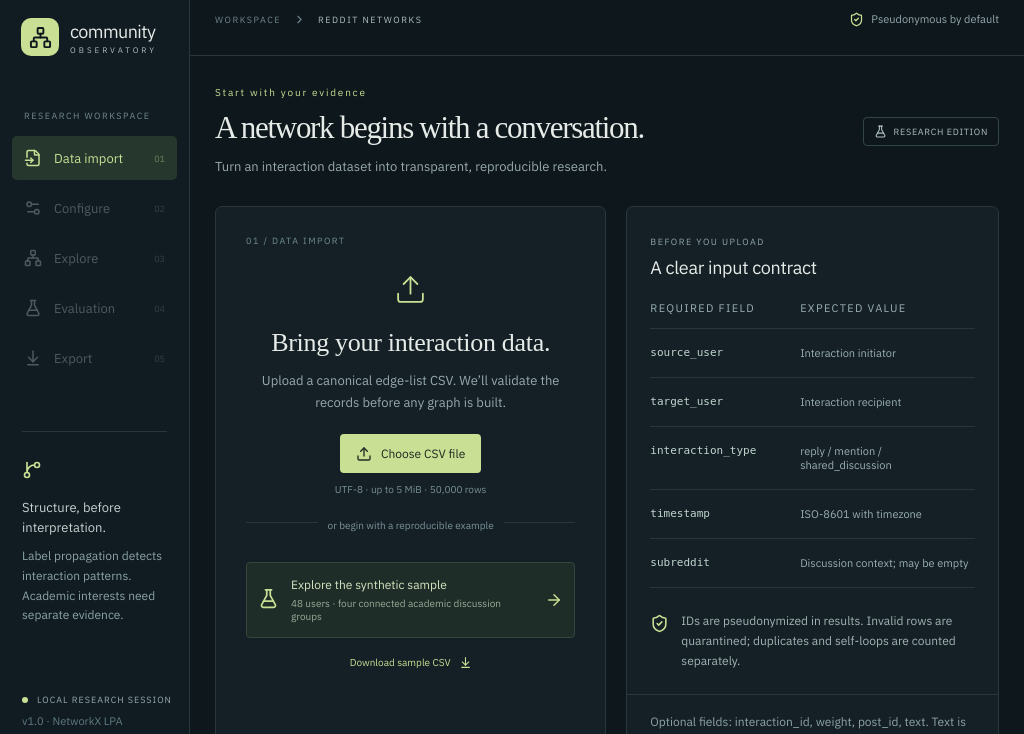
Test: research workflow › validates the sample, reports quarantine and allows configuration
The width and height of the screenshot is (1024, 734).
Click the button "Explore the synthetic sample" at (411, 600), box [246,562,575,638]
(page scrolled)
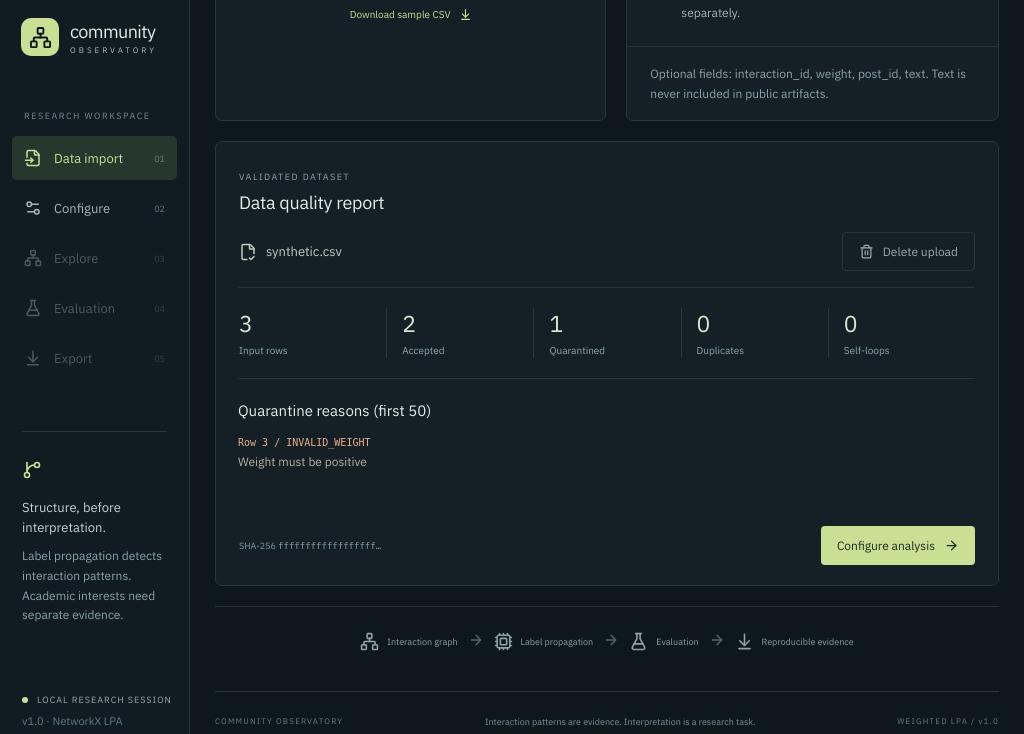
Result: the heading "Data quality report" is shown at [239,191,384,214]
Result: the text "Weight must be positive" is shown at [238,454,367,469]
Click the button "Configure analysis" at (898, 545), box [821,526,975,565]
(page scrolled)
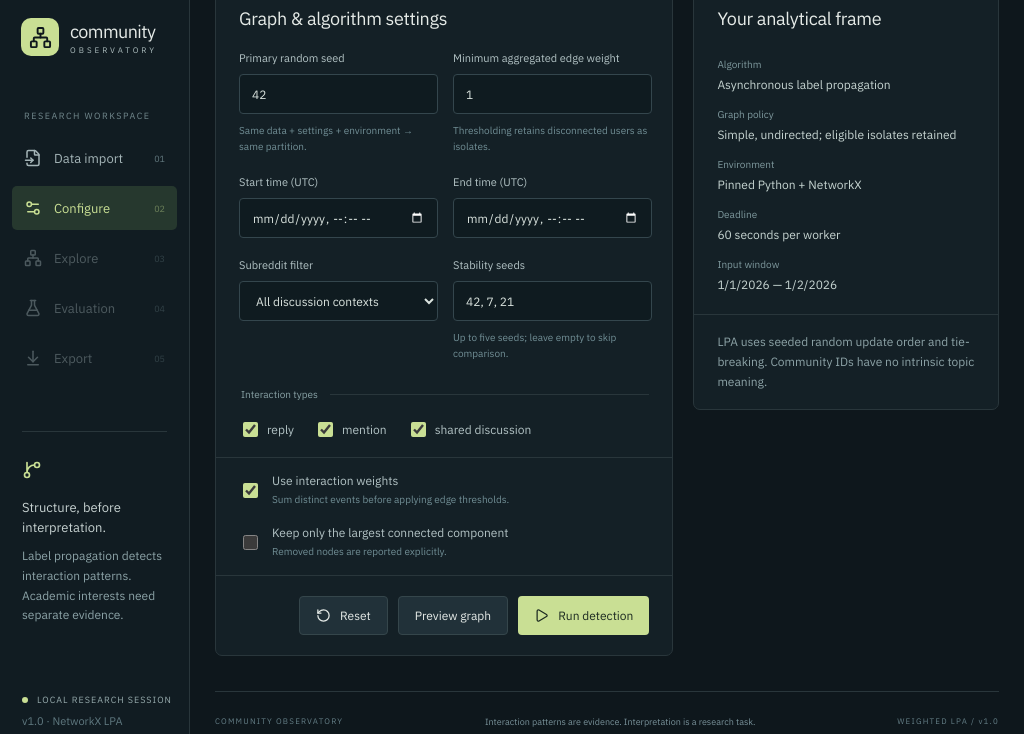
Result: the number field labelled "Primary random seed" holds "42" at [239,74,438,114]
Type "1, 1" into the field labelled "Stability seeds" at (552, 301), box [453,281,652,321]
(page scrolled)
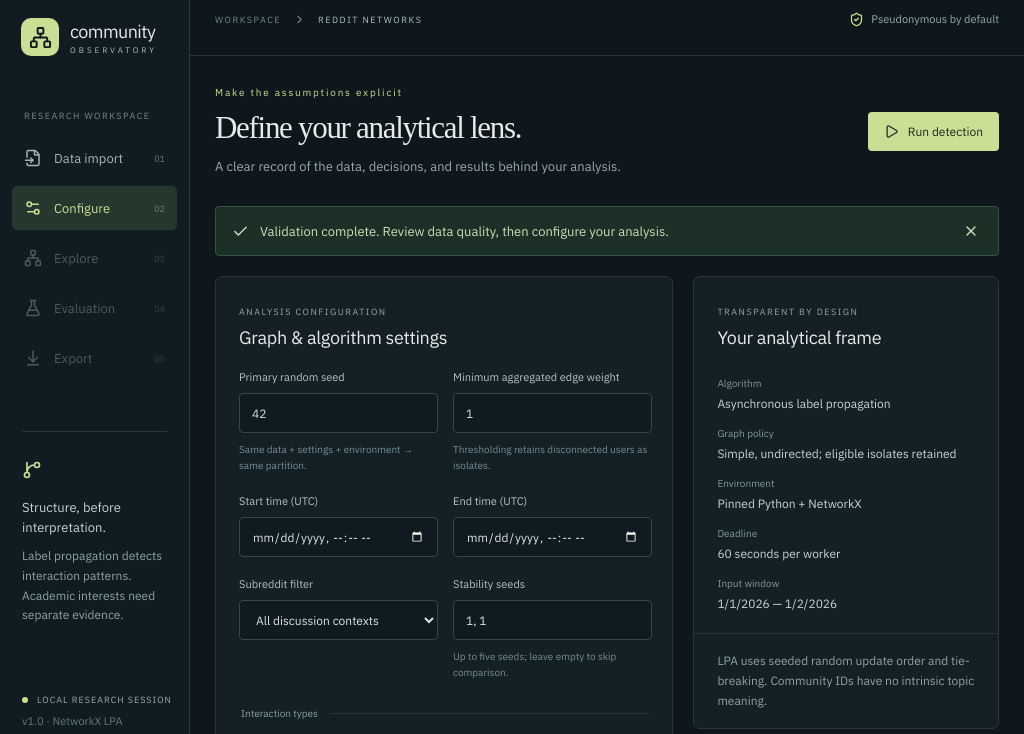
Click the button "Run detection" at (933, 132), box [868,112,999,151]
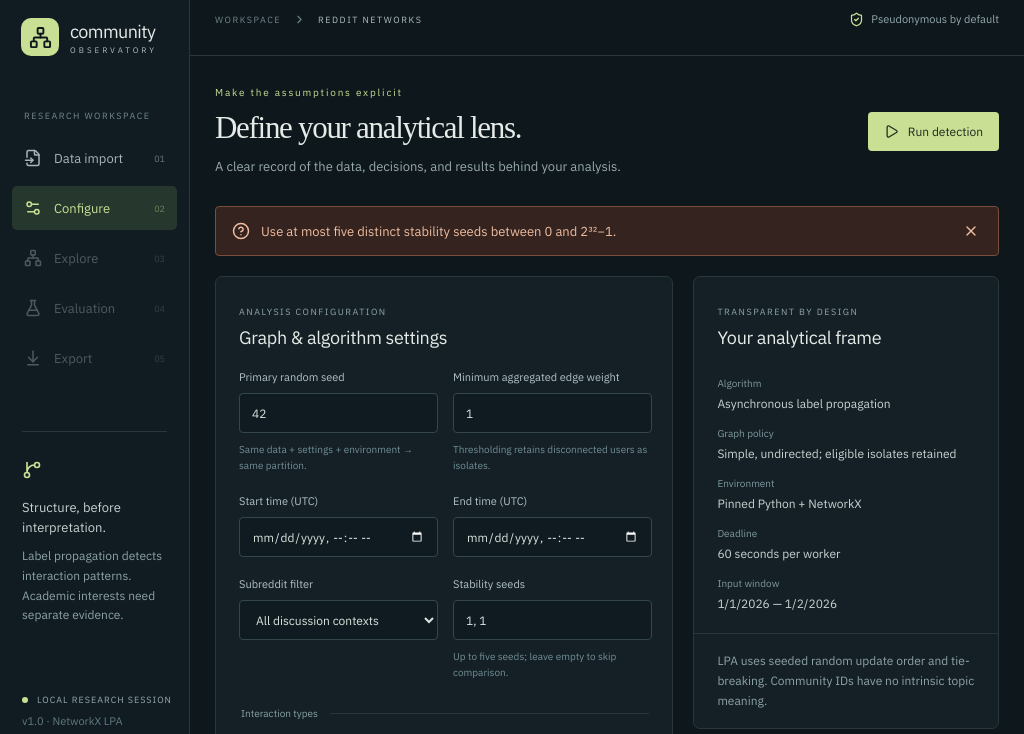
Result: the message shows "distinct stability seeds" at [261,223,616,240]
